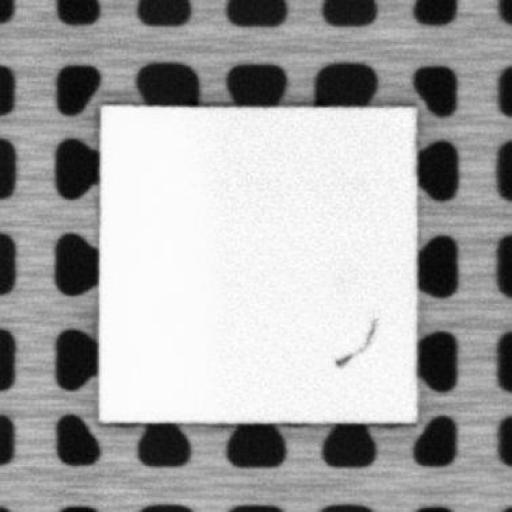DIE_INK: (335, 315, 379, 369)
